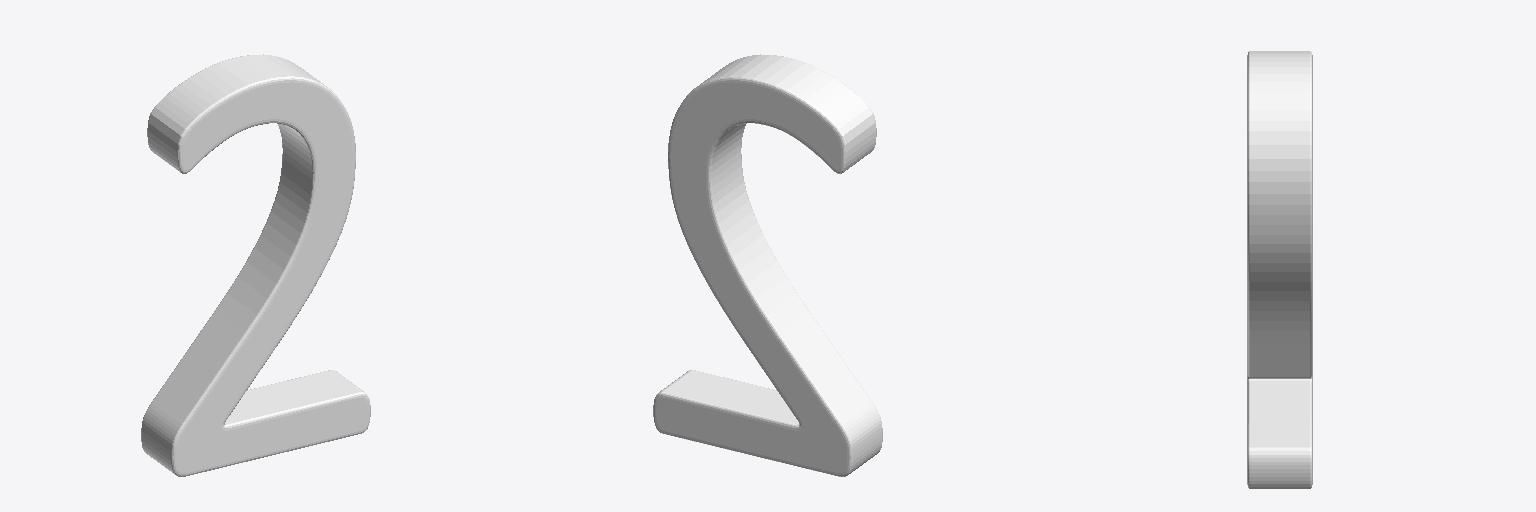
3 renders of one model, left to right at view 1: azimuth 30°, elevation 25°; view 2: azimuth 150°, elevation 25°; view 3: azimuth 270°, elevation 25°, orthographic.
Visible parts, largest first — view 1: two; view 2: two; view 3: two.
Part boxes in pixels (x1,y1,x2,y2): two: (141, 54, 370, 476); two: (653, 54, 882, 476); two: (1247, 51, 1312, 488).
Bounding box in the file's own units: 0.2844 × 0.5149 × 0.0806.